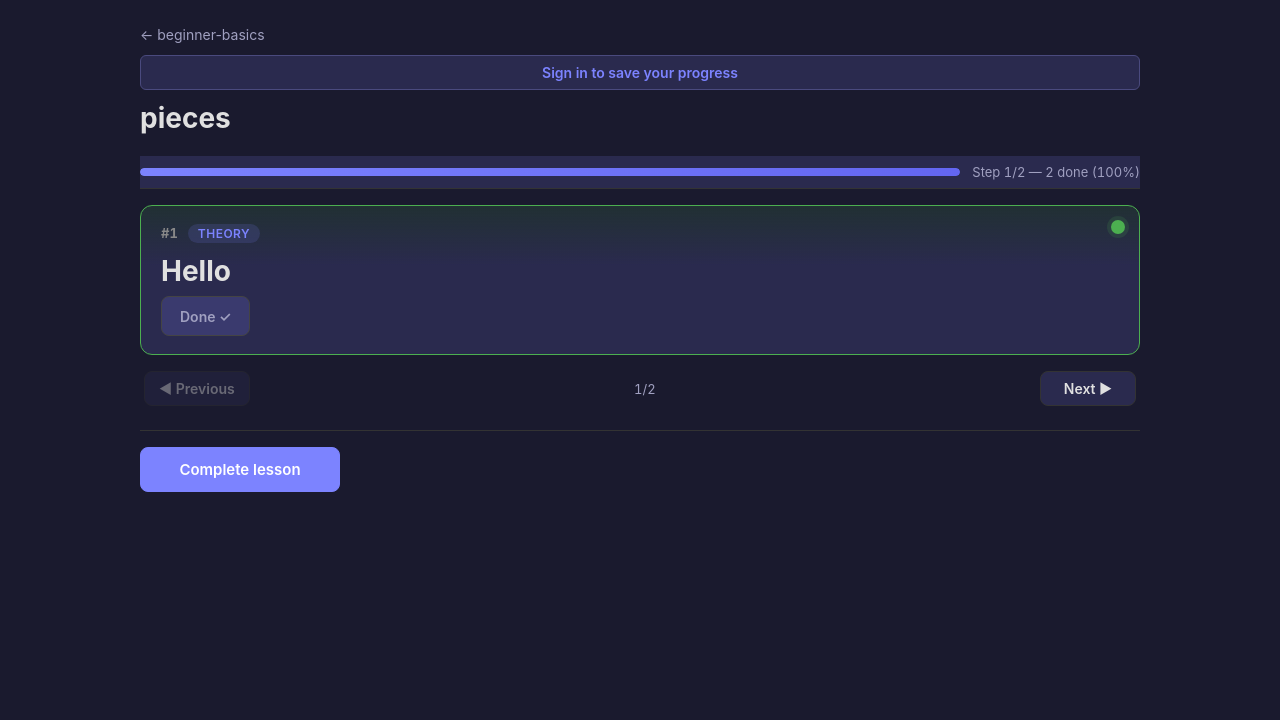
Test case: LessonPage › KS-2057: на последнем уроке курса кнопка «К следующему уроку» не показывается
The image size is (1280, 720).
Click the button with test id "lesson-complete-btn" at [240, 470], box left=140, top=447, right=340, bottom=492
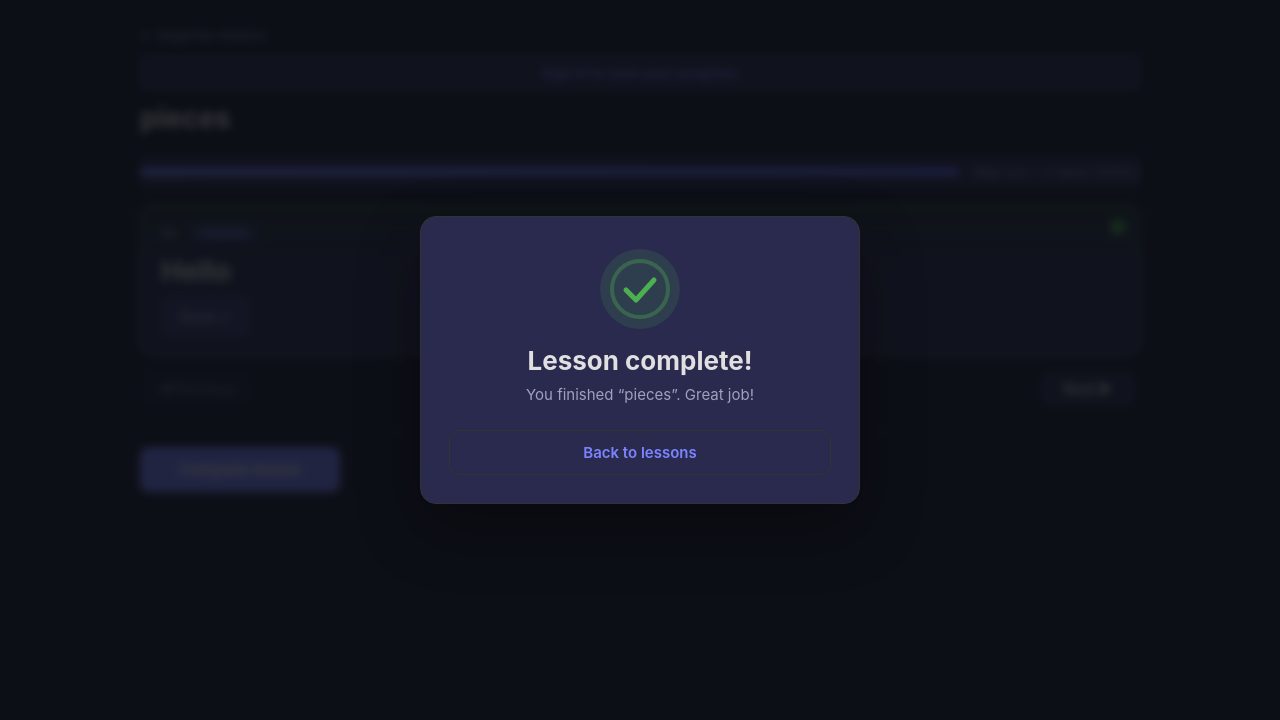
Result: the dialog with test id "lesson-completion-overlay" is shown
Result: the link with test id "lesson-completion-to-list" is shown at left=449, top=430, right=831, bottom=475
